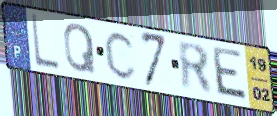7: (140, 29, 169, 90)
C: (103, 29, 139, 81)
E: (212, 45, 250, 104)
L: (29, 12, 61, 72)
Q: (62, 21, 98, 76)
R: (175, 39, 215, 98)
